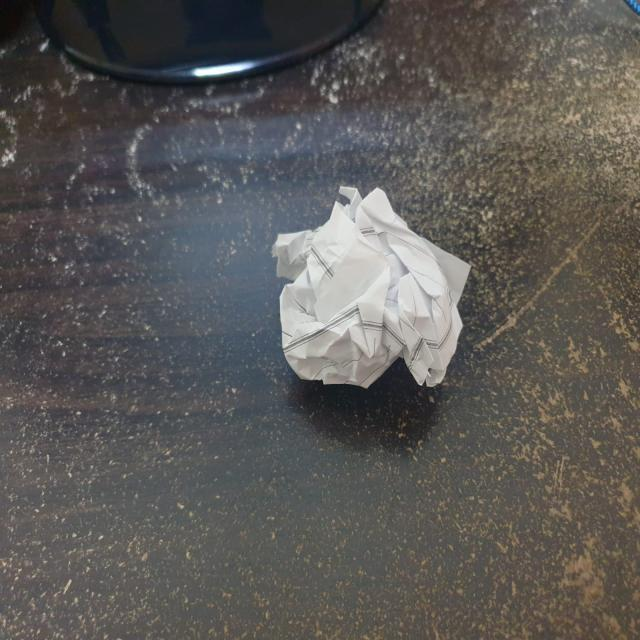Paper: (278, 182, 474, 395)
